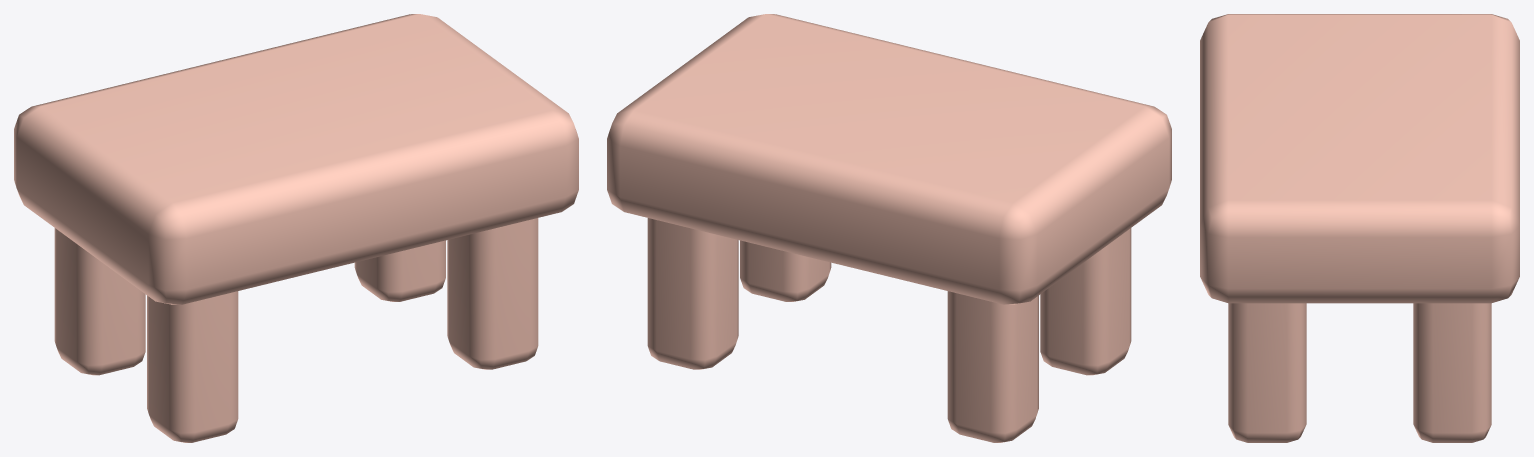
The model's file is Store_3_Table_1.glb.
3 renders of one model, left to right at view 1: azimuth 30°, elevation 25°; view 2: azimuth 150°, elevation 25°; view 3: azimuth 270°, elevation 25°, orthographic.
Parts seen in each view (by area): view 1: Store_3_Table_1; view 2: Store_3_Table_1; view 3: Store_3_Table_1.
Part boxes in pixels (x1=…): Store_3_Table_1: x1=14, y1=14, x2=578, y2=442; Store_3_Table_1: x1=607, y1=14, x2=1171, y2=442; Store_3_Table_1: x1=1200, y1=14, x2=1519, y2=442.
Size of the model in its own units: 1.14 by 0.6455 by 0.7388.
Materials: 1 (1 with a texture image).
